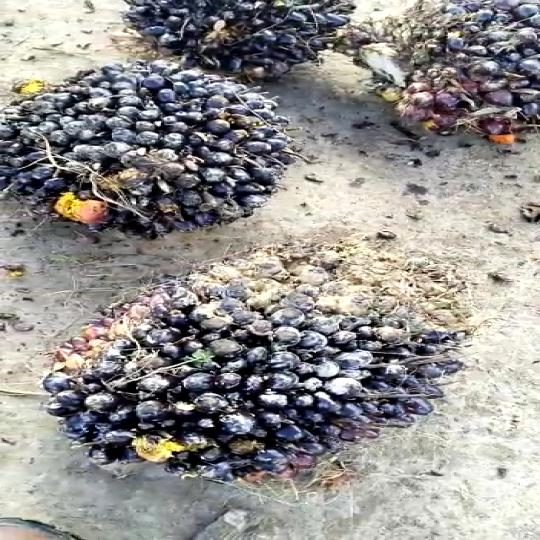mentah: (55, 248, 465, 488), (4, 47, 297, 264), (360, 0, 538, 137), (130, 0, 345, 94)
